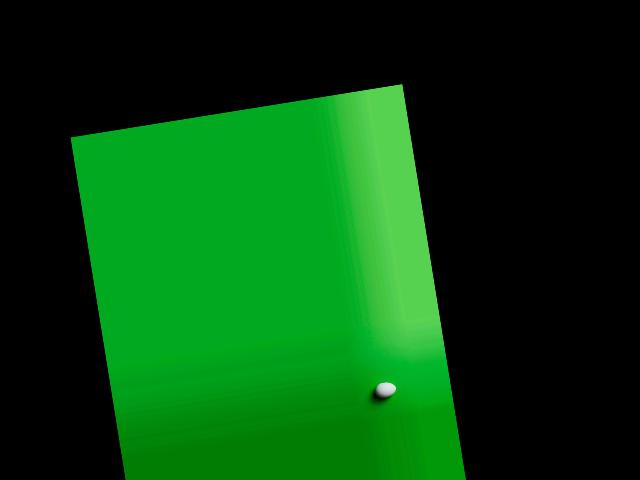egg: (373, 380, 396, 399)
